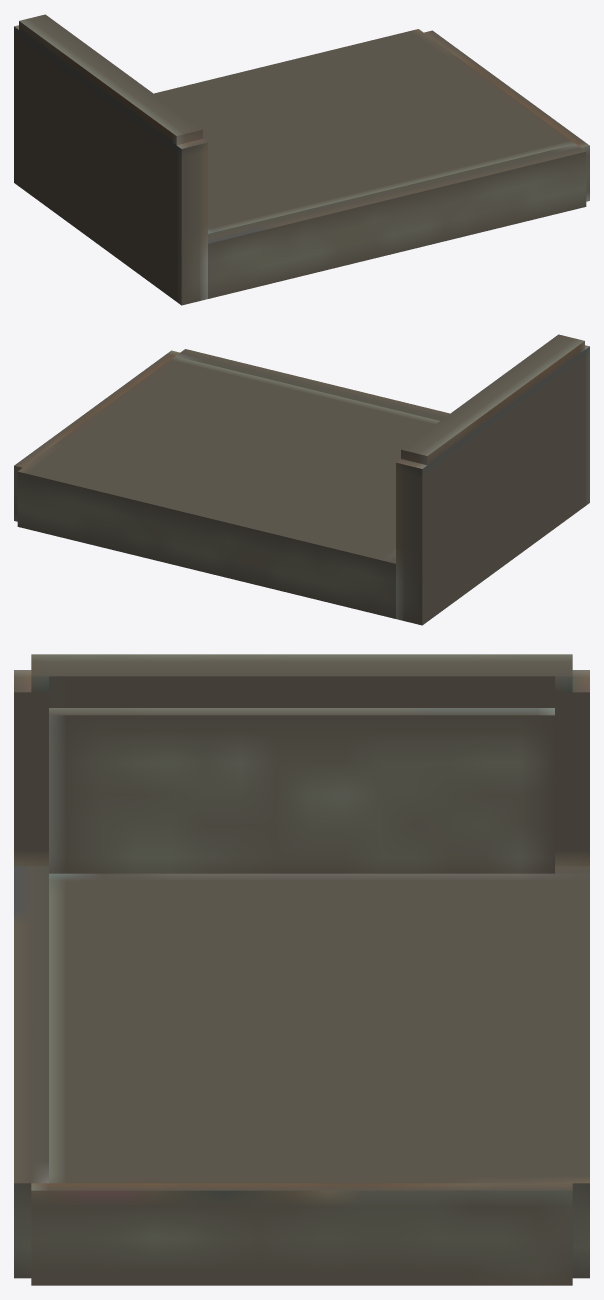
Rendered from BedFrameDarkBrown_00.fbx.
The picture shows the model from 3 angles, top to bottom: view 1: azimuth 30°, elevation 25°; view 2: azimuth 150°, elevation 25°; view 3: azimuth 270°, elevation 25°; orthographic projection. The views are drawn at different scales.
Parts seen in each view (by area): view 1: BedFrameDarkBrown_00; view 2: BedFrameDarkBrown_00; view 3: BedFrameDarkBrown_00.
Part boxes in pixels (bbox=[...]): BedFrameDarkBrown_00: bbox=[14, 14, 589, 305]; BedFrameDarkBrown_00: bbox=[14, 334, 589, 625]; BedFrameDarkBrown_00: bbox=[14, 654, 589, 1285].
Bounding box in the file's own units: 235 × 165 × 90.
Materials: 1 (1 with a texture image).
